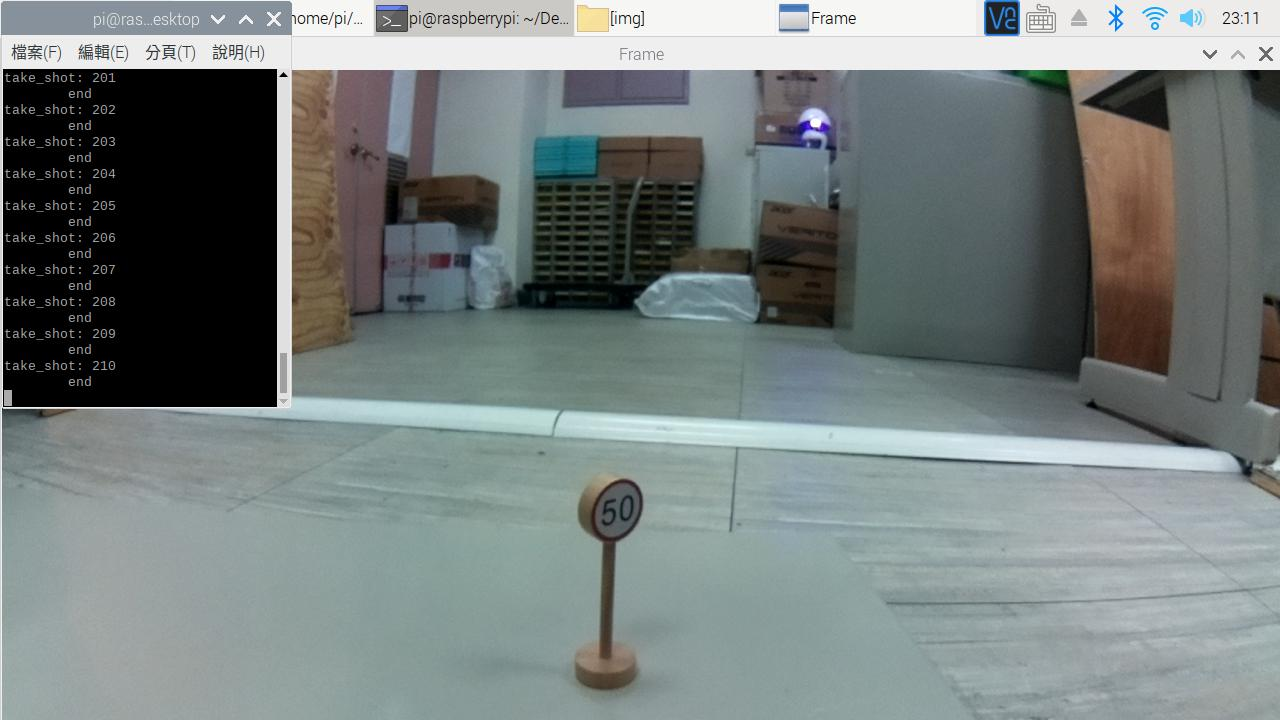Speed50: (555, 473, 672, 556)
